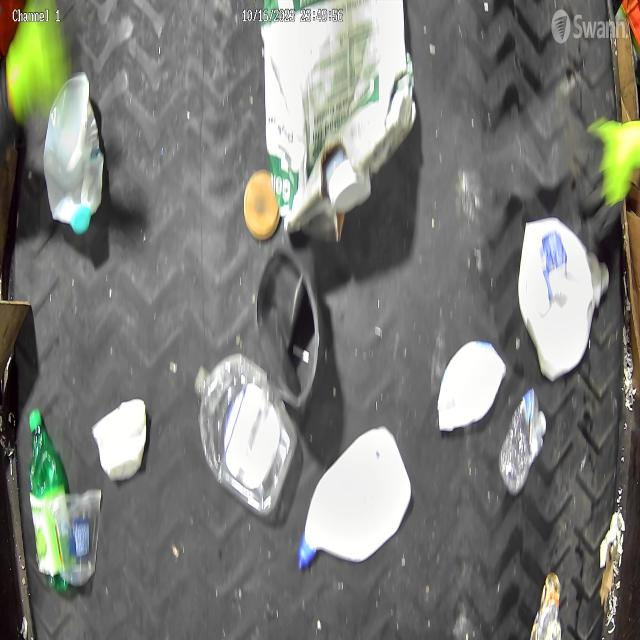milk_jug: (299, 425, 411, 571), (517, 220, 601, 383), (44, 73, 104, 235), (433, 338, 505, 435)
plastic_bottle: (499, 387, 547, 498)
